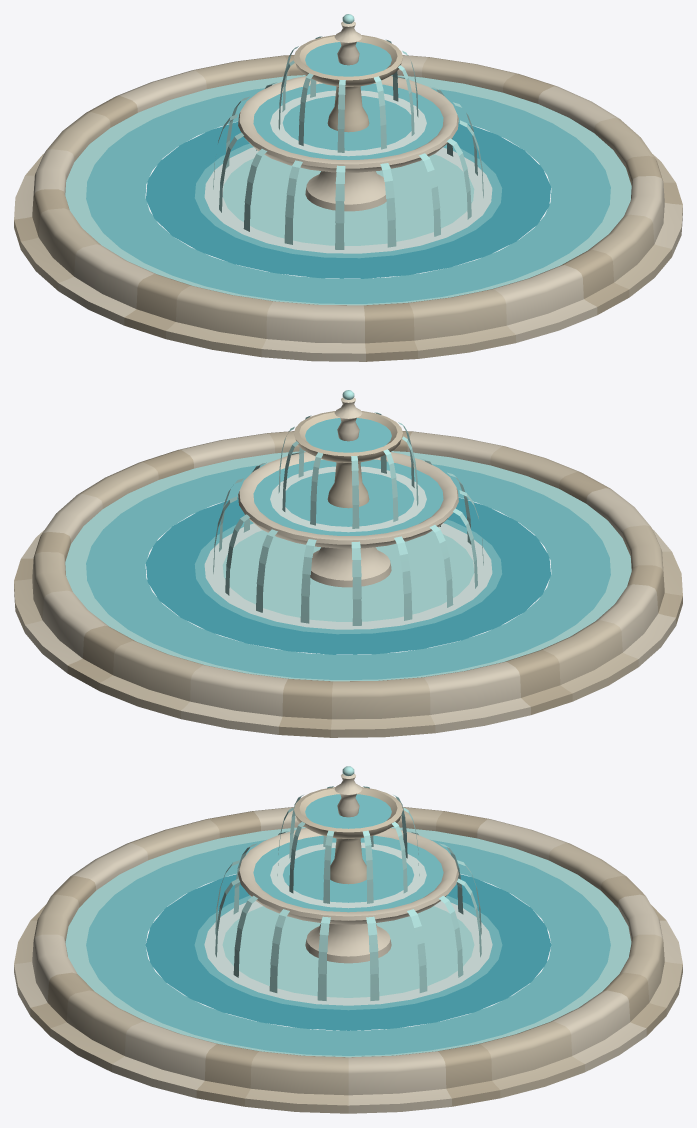
The model's file is plaza-fountain.glb.
3 renders of one model, top to bottom at view 1: azimuth 30°, elevation 25°; view 2: azimuth 150°, elevation 25°; view 3: azimuth 270°, elevation 25°, orthographic.
Parts seen in each view (by area): view 1: plaza-fountain; view 2: plaza-fountain; view 3: plaza-fountain.
Part boxes in pixels (<box>): plaza-fountain: <box>14,14,682,361</box>; plaza-fountain: <box>14,390,682,737</box>; plaza-fountain: <box>14,766,682,1113</box>.
Bounding box in the file's own units: 9.56 × 3.24 × 9.56.
